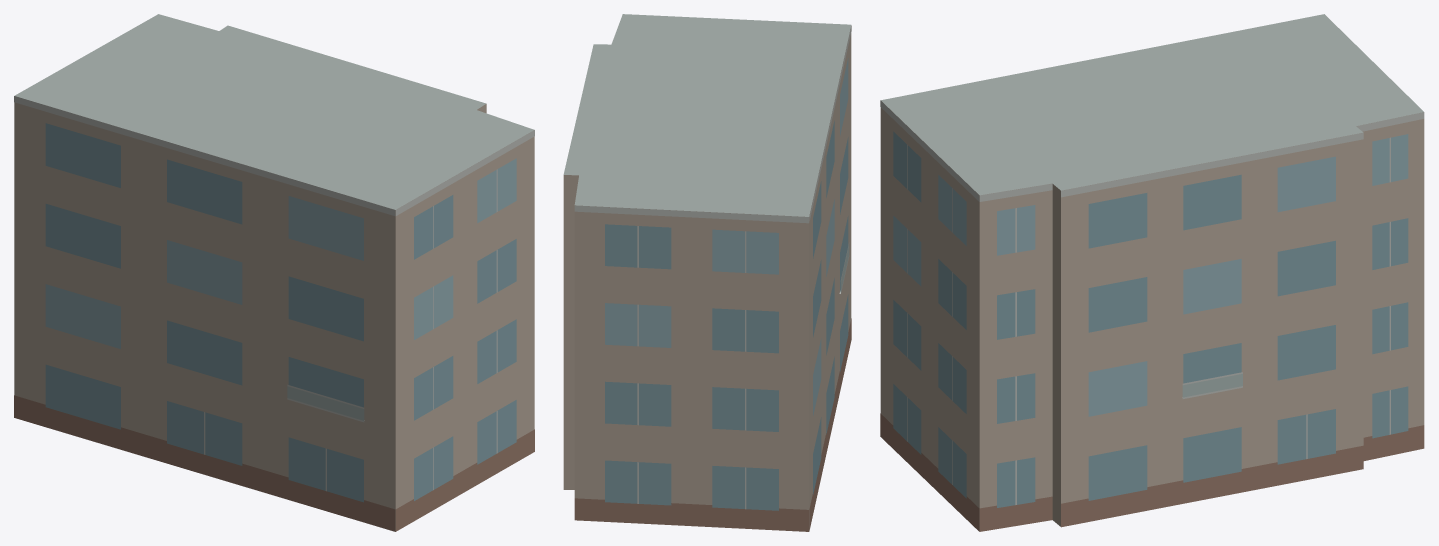
File: survey-upis-32705104.glb
3 views of the same model, side by side, from view 1: azimuth 30°, elevation 25°; view 2: azimuth 150°, elevation 25°; view 3: azimuth 270°, elevation 25° (orthographic). The views are drawn at different scales.
Parts seen in each view (by area): view 1: survey-upis-32705104.tmp; view 2: survey-upis-32705104.tmp; view 3: survey-upis-32705104.tmp.
Part boxes in pixels (left/top/right/bottom): survey-upis-32705104.tmp: left=14, top=14, right=534, bottom=531; survey-upis-32705104.tmp: left=563, top=14, right=851, bottom=531; survey-upis-32705104.tmp: left=880, top=14, right=1424, bottom=531.
Bounding box in the file's own units: 14.11 × 12.2 × 17.88.
